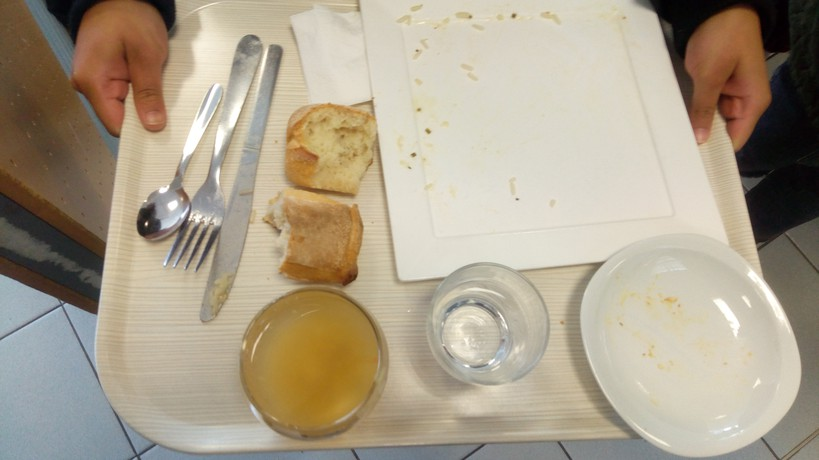cup: (418, 261, 553, 391)
cutlery: (132, 38, 286, 352)
orga: (266, 100, 389, 284), (256, 306, 371, 424)
trash: (281, 4, 392, 109)
